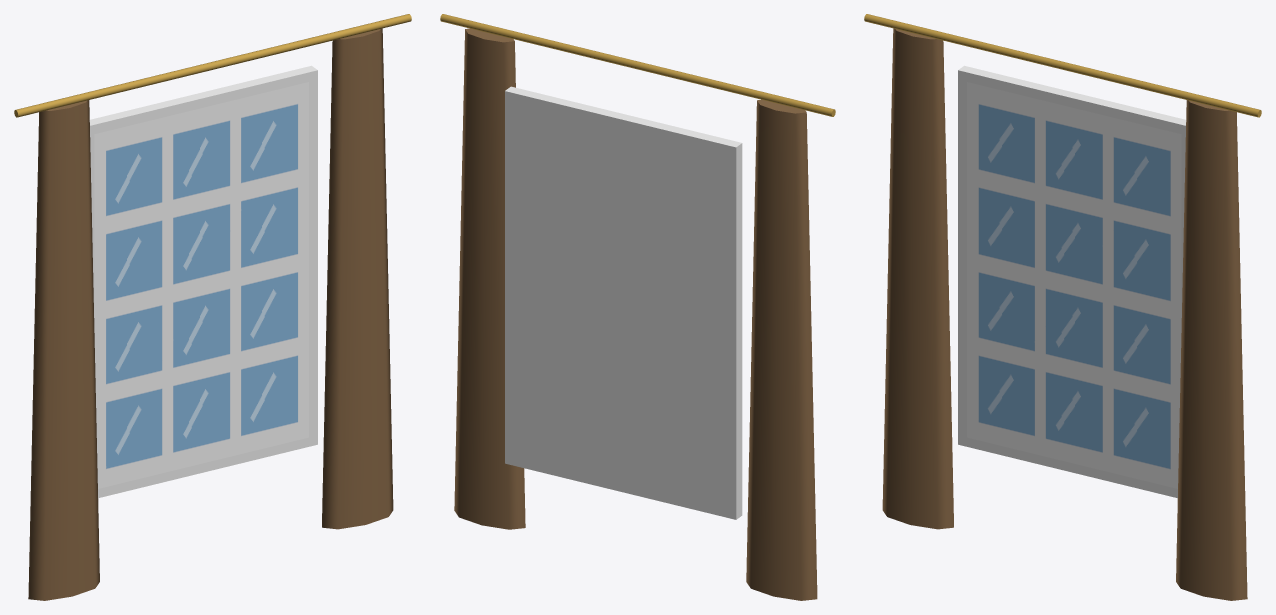
Rendered from curtained_window.glb.
3 renders of one model, left to right at view 1: azimuth 30°, elevation 25°; view 2: azimuth 150°, elevation 25°; view 3: azimuth 330°, elevation 25°, orthographic.
Visible parts, largest first — view 1: curtained_window; view 2: curtained_window; view 3: curtained_window.
Part boxes in pixels (box(x1,y1,x2,y2)): curtained_window: box(14, 14, 411, 600); curtained_window: box(440, 14, 835, 600); curtained_window: box(864, 14, 1261, 600).
Bounding box in the file's own units: 2.2 × 2.64 × 0.23.
4 materials, 1 textured.
